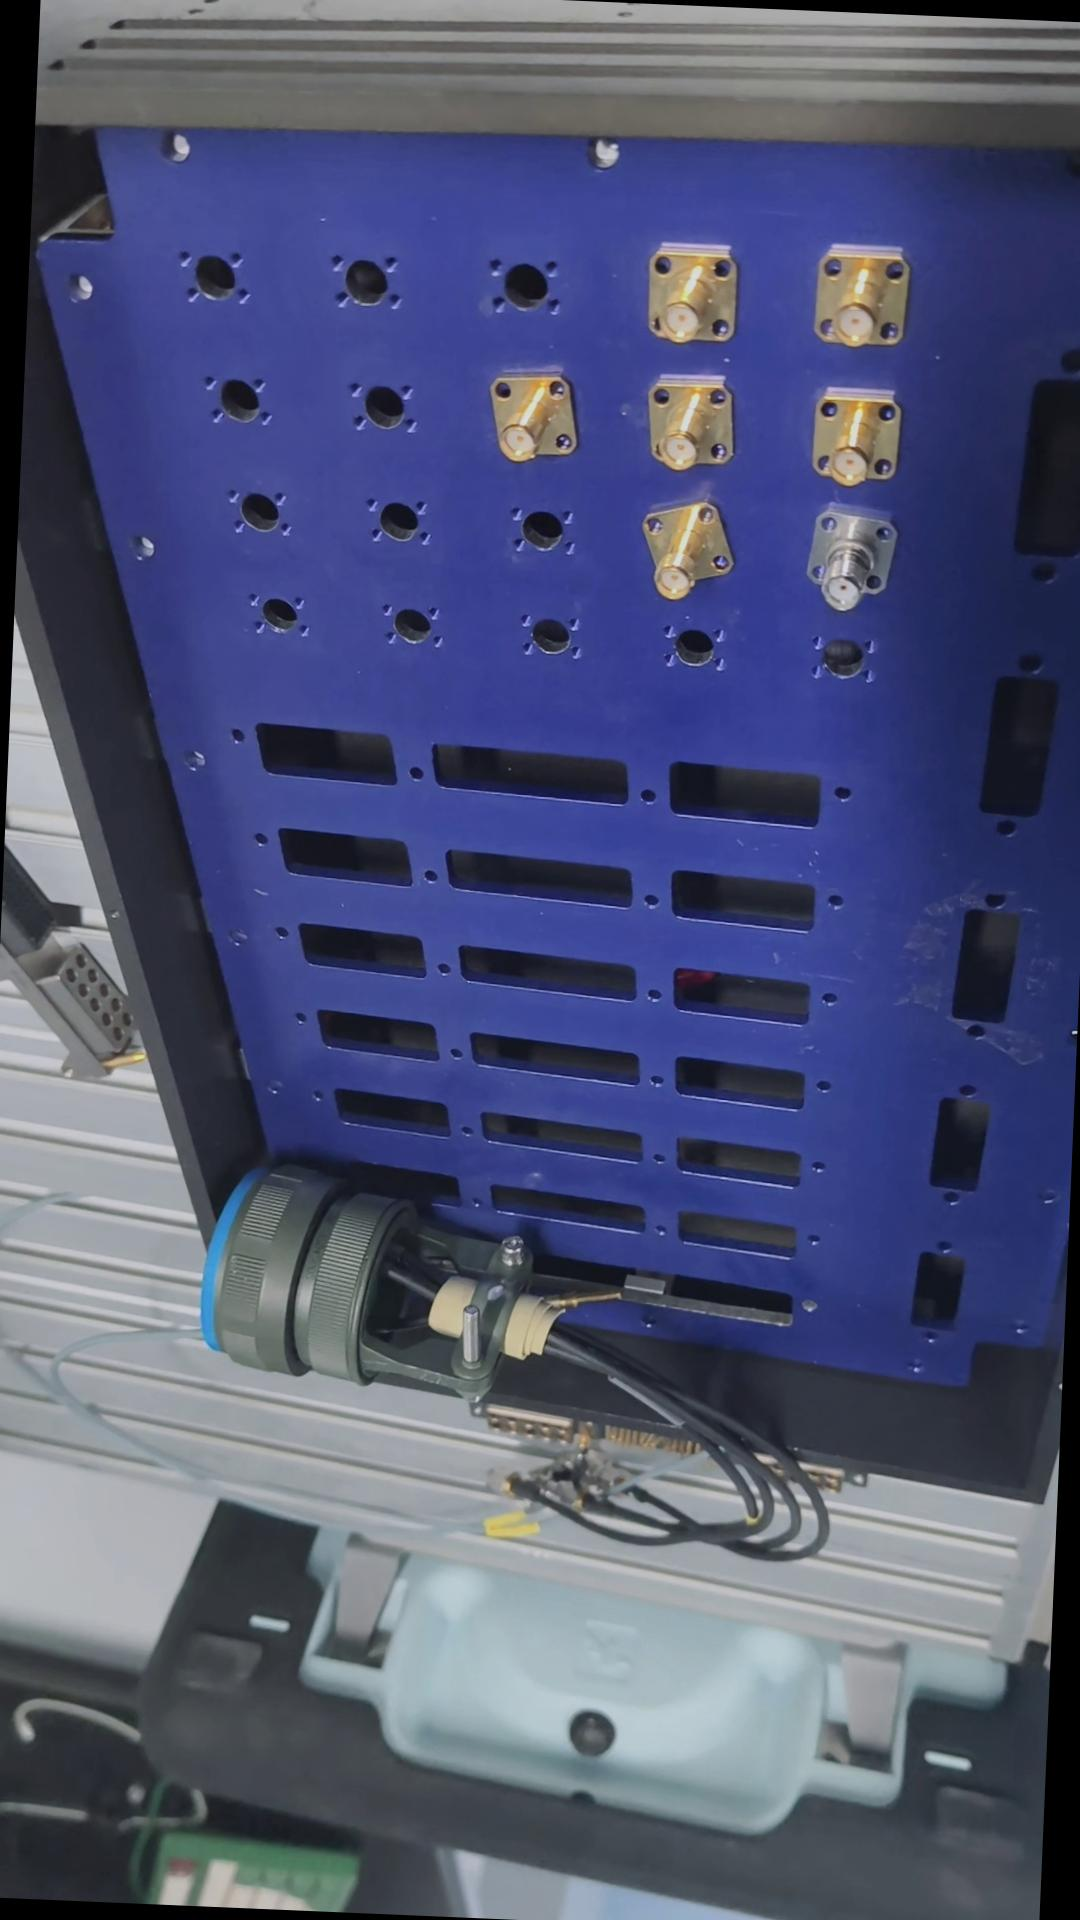SMA: (803, 237, 907, 356), (800, 504, 902, 611), (640, 239, 738, 347), (632, 493, 727, 601), (807, 386, 899, 483), (488, 365, 574, 464), (644, 376, 725, 473)
